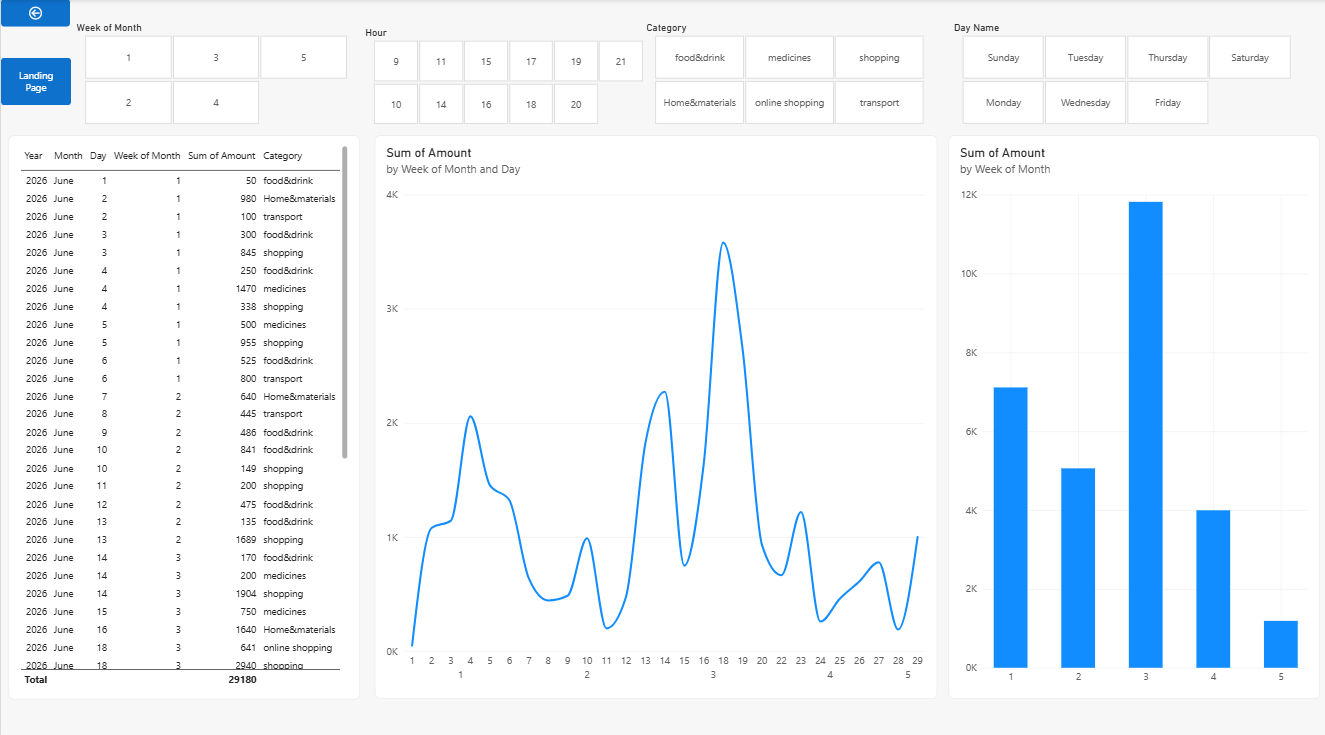

Layout of this report page (visuals, bound fields, positions):
{"tool":"powerbi","page":{"name":"Day Wise Amount","canvas":[1920,1080],"ordinal":1},"visuals":[{"type":"slicer","fields":{"Values":["cal_date.Week of Month"]},"box":[101.3,32.6,418,150.2],"z":0},{"type":"lineChart","fields":{"Category":["cal_date.Week of Month","cal_date.Exp_details.date.Variation.Date Hierarchy.Day"],"Y":["Sum(Exp_details.Amount)"]},"box":[541.1,197.3,814.3,816.2],"z":1000},{"type":"tableEx","fields":{"Values":["cal_date.Exp_details.date.Variation.Date Hierarchy.Year","cal_date.Exp_details.date.Variation.Date Hierarchy.Month","cal_date.Exp_details.date.Variation.Date Hierarchy.Day","cal_date.Week of Month","Sum(Exp_details.Amount)","Exp_details.Category"]},"box":[10.9,197.3,508.4,817.2],"z":2000},{"type":"clusteredColumnChart","fields":{"Category":["cal_date.Week of Month"],"Y":["Sum(Exp_details.Amount)"]},"box":[1371.7,197.3,537.5,816.2],"z":3000},{"type":"slicer","fields":{"Values":["cal_date.Day Name"]},"box":[1371.7,32.6,513.9,150.2],"z":4000},{"type":"slicer","fields":{"Values":["Exp_details.Category"]},"box":[926.5,32.6,428.1,150.3],"z":5000},{"type":"slicer","fields":{"Values":["cal_date.Hour"]},"box":[519.4,39.8,428.9,143],"z":6000},{"type":"actionButton","box":[0,0,100,40],"z":7000},{"type":"actionButton","box":[0,85.1,101.3,68.8],"z":8000}]}

Visuals, with their boxes on the page's 1920x1080 design canvas (x1, y1, x2, y2). These are canvas units, not pixel positions in the 1325x735 screenshot, which may show the page scaled, cropped or inside an application window:
slicer - cal_date.Week of Month: (left=101, top=33, right=519, bottom=183)
lineChart - cal_date.Week of Month x cal_date.Exp_details.date.Variation.Date Hierarchy.Day: (left=541, top=197, right=1355, bottom=1014)
tableEx - cal_date.Exp_details.date.Variation.Date Hierarchy.Year x cal_date.Exp_details.date.Variation.Date Hierarchy.Month: (left=11, top=197, right=519, bottom=1014)
clusteredColumnChart - cal_date.Week of Month x Sum(Exp_details.Amount): (left=1372, top=197, right=1909, bottom=1014)
slicer - cal_date.Day Name: (left=1372, top=33, right=1886, bottom=183)
slicer - Exp_details.Category: (left=926, top=33, right=1355, bottom=183)
slicer - cal_date.Hour: (left=519, top=40, right=948, bottom=183)
actionButton: (left=0, top=0, right=100, bottom=40)
actionButton: (left=0, top=85, right=101, bottom=154)
